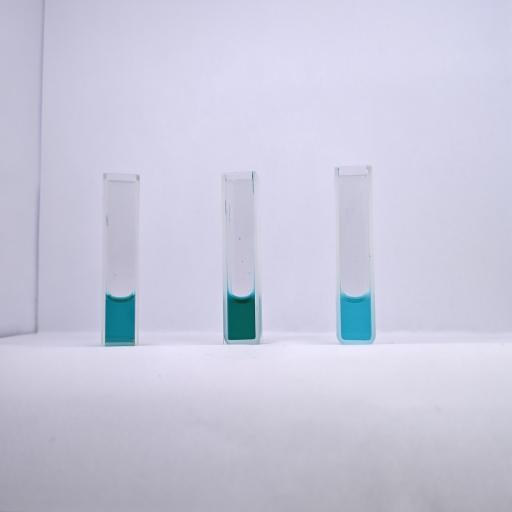cuvette: (333, 163, 377, 345), (220, 170, 264, 345), (100, 171, 141, 346)
liquid: (105, 292, 135, 341), (341, 292, 371, 339), (228, 292, 256, 340)
